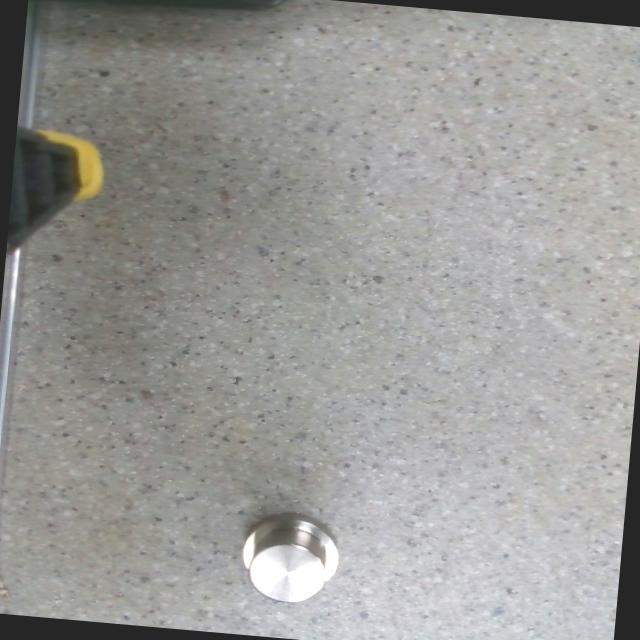sensor: (237, 510, 342, 608)
